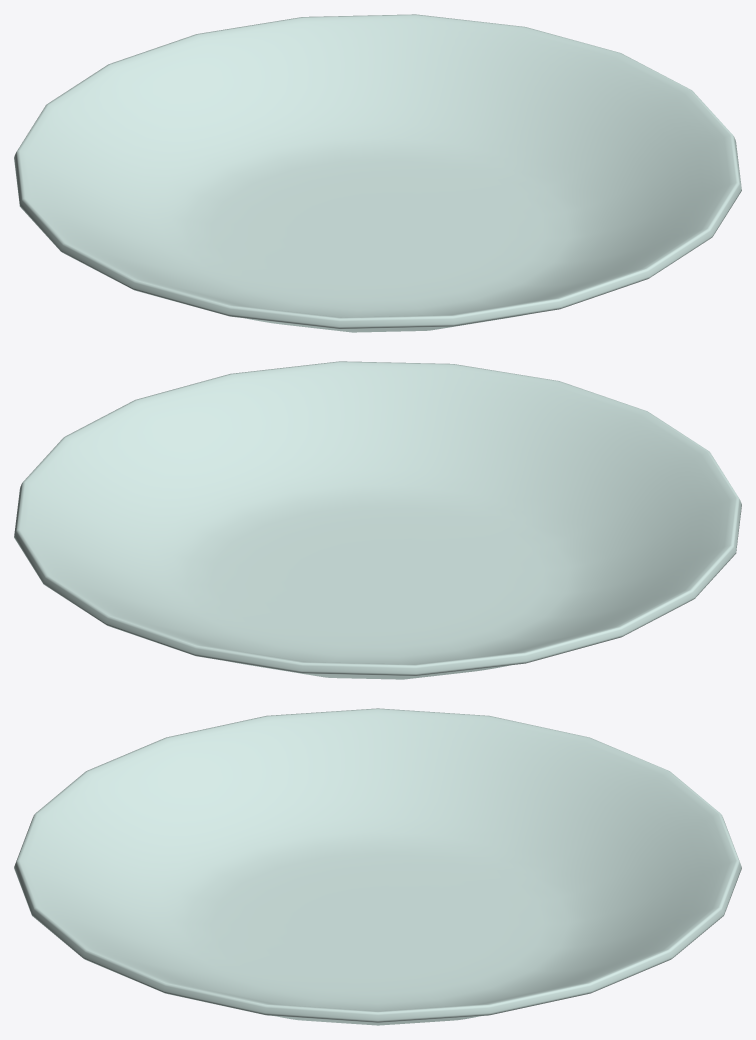
Rendered from plate.fbx.
3 renders of one model, top to bottom at view 1: azimuth 30°, elevation 25°; view 2: azimuth 150°, elevation 25°; view 3: azimuth 270°, elevation 25°, orthographic.
Parts seen in each view (by area): view 1: plate; view 2: plate; view 3: plate.
Part boxes in pixels (<box>): plate: <box>14,14,741,332</box>; plate: <box>14,361,741,679</box>; plate: <box>14,708,741,1025</box>.
Size of the model in its own units: 2290 by 275 by 2291.
